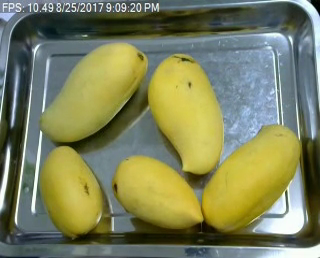Mango: (198, 124, 306, 231), (39, 42, 149, 145), (147, 52, 228, 175), (112, 153, 205, 230), (38, 143, 104, 236)
